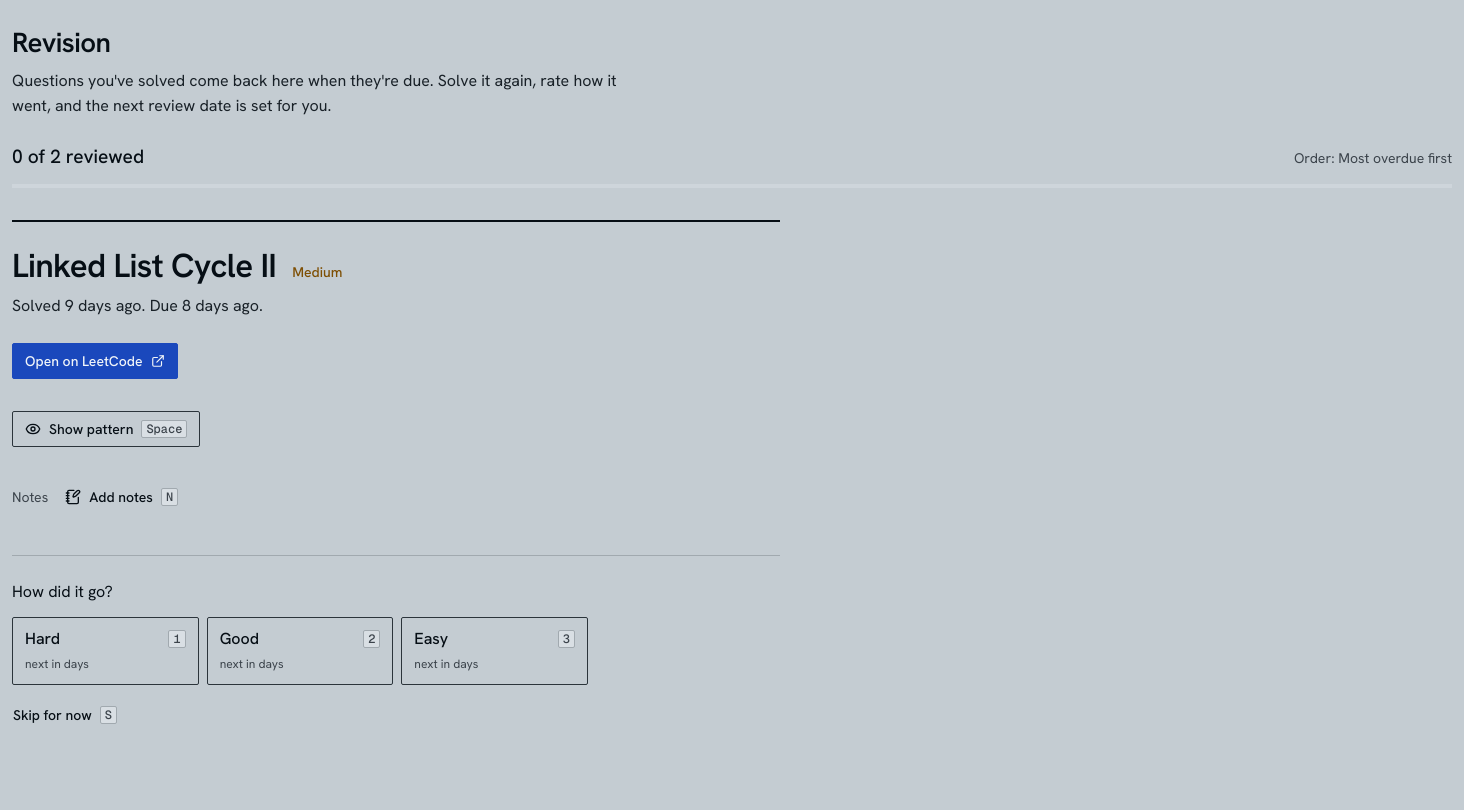
Test: RevisionView › links to LeetCode, and to NeetCode only where it has a solution
The width and height of the screenshot is (1464, 810).
expect the link "NeetCode solution" is not shown: met
Click the button "Good 2 next in days": (300, 651) [207, 617, 393, 685]
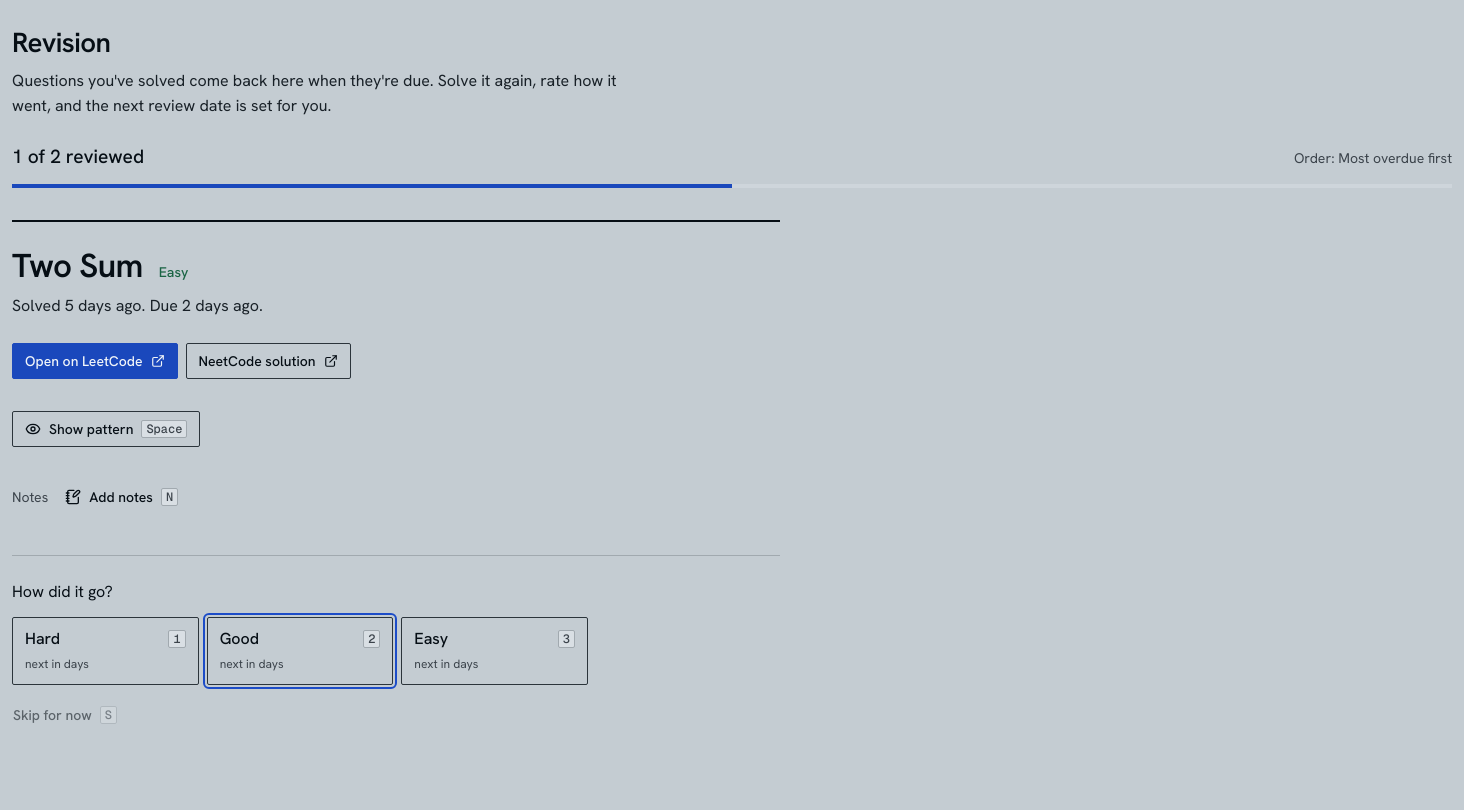
expect the heading "Two Sum" is shown: met, box [12, 246, 143, 286]
